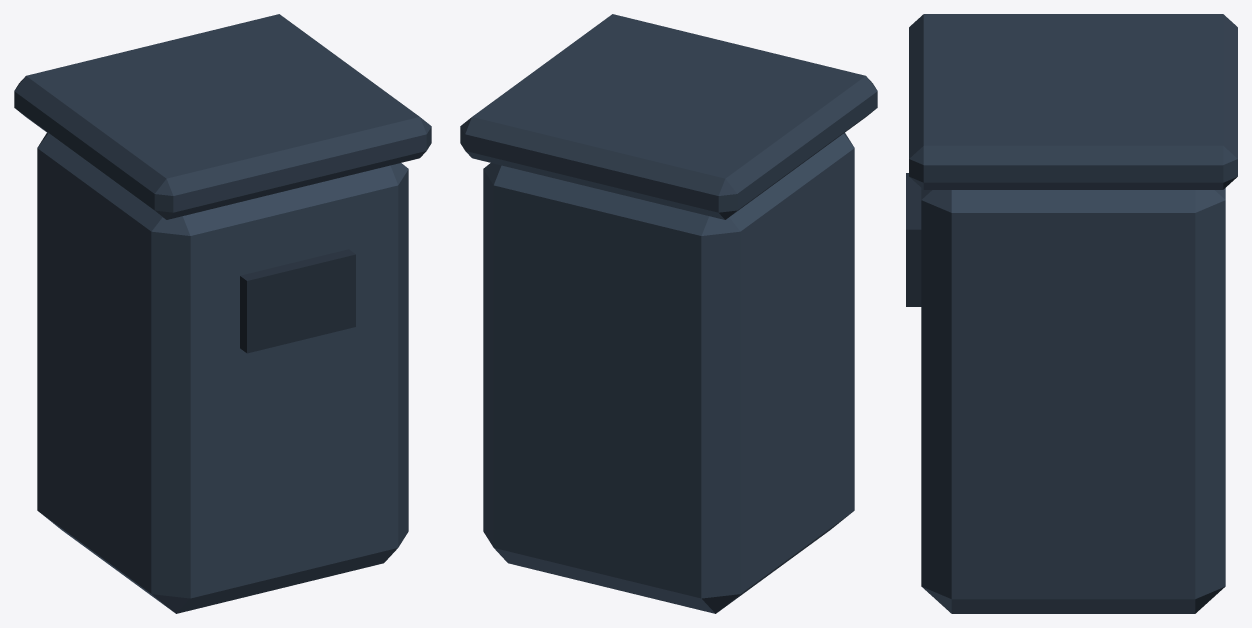
The model's file is prop_bin_b-CXdIo59Q.glb.
3 views of the same model, side by side, from view 1: azimuth 30°, elevation 25°; view 2: azimuth 150°, elevation 25°; view 3: azimuth 270°, elevation 25° (orthographic). The views are drawn at different scales.
Parts seen in each view (by area): view 1: prop; view 2: prop; view 3: prop.
Part boxes in pixels (box(x1,y1,x2,y2)): prop: box(14, 14, 431, 613); prop: box(460, 14, 877, 613); prop: box(906, 14, 1237, 613).
Size of the model in its own units: 0.56 by 0.87 by 0.545.
